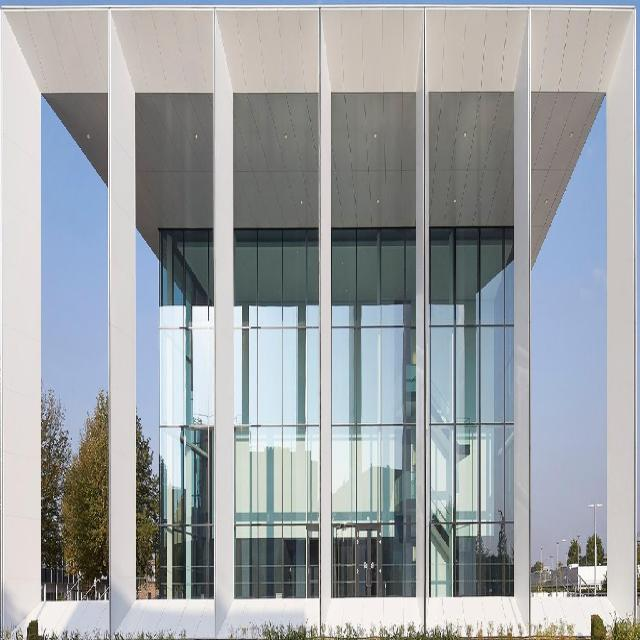door: (354, 523, 382, 602), (306, 523, 321, 601)
window: (157, 226, 515, 601)
